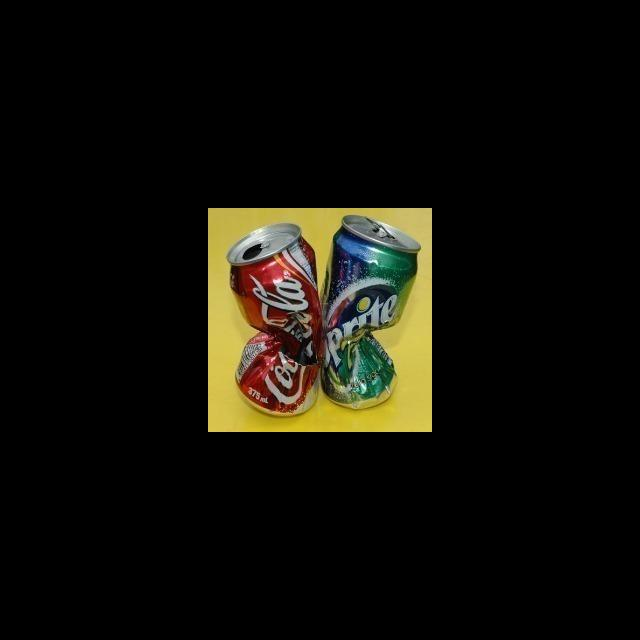metal: (323, 208, 424, 411), (222, 223, 322, 415)
